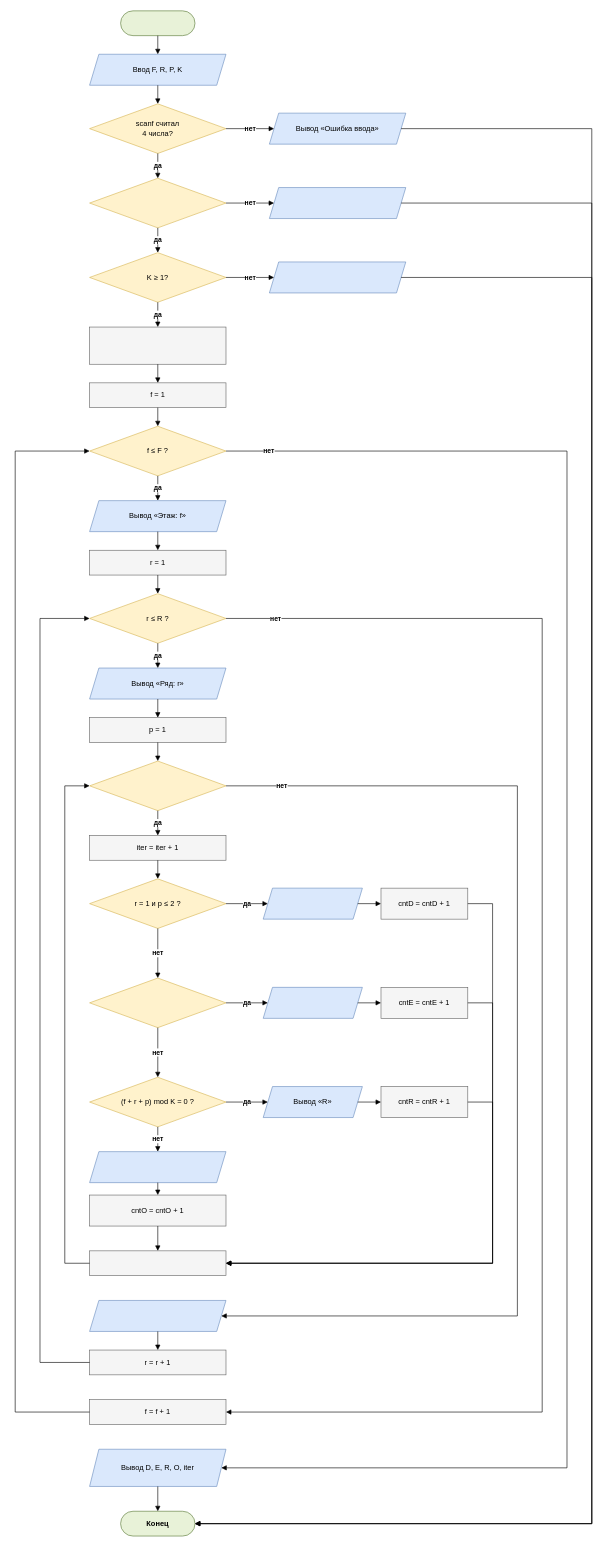
This 608x1547 diagram has some shape labels left out. Here are the shapes that lost their labels. From the top down, the box of each, then its label:
(120, 10, 195, 36): Начало
(89, 178, 226, 228): 1 ≤ F, R, P ≤ 20?
(269, 187, 406, 219): Вывод «Ошибка: F, R, P от 1 до 20»
(269, 261, 406, 293): Вывод «Ошибка: K ≥ 1»
(89, 326, 226, 364): cntD = cntE = cntR = cntO = 0 iter = 0
(89, 760, 226, 811): p ≤ P ?
(263, 888, 362, 919): Вывод «D»
(89, 977, 226, 1028): p mod 5 = 0 ?
(263, 987, 362, 1018): Вывод «E»
(89, 1151, 226, 1183): Вывод «O»
(89, 1250, 226, 1276): p = p + 1
(89, 1300, 226, 1331): Перевод строки
